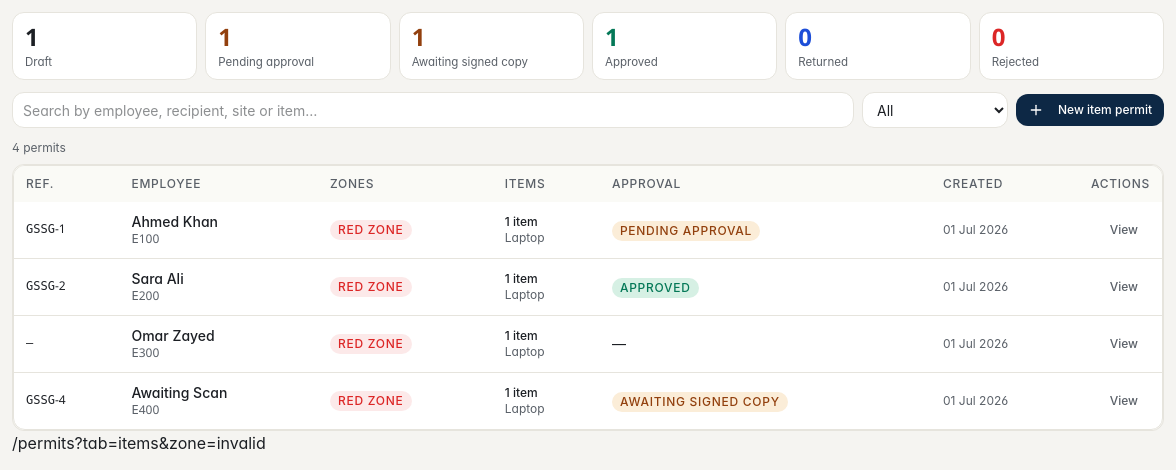
Test: ItemPermitsTab › refetches server-side when changing zone and ignores invalid URL zones
Check: the text "Ahmed Khan" is shown, box [132,213,218,230]
Select "Green zone" in the dropdown named "Zone" at point(935, 110), box [862,92,1008,128]
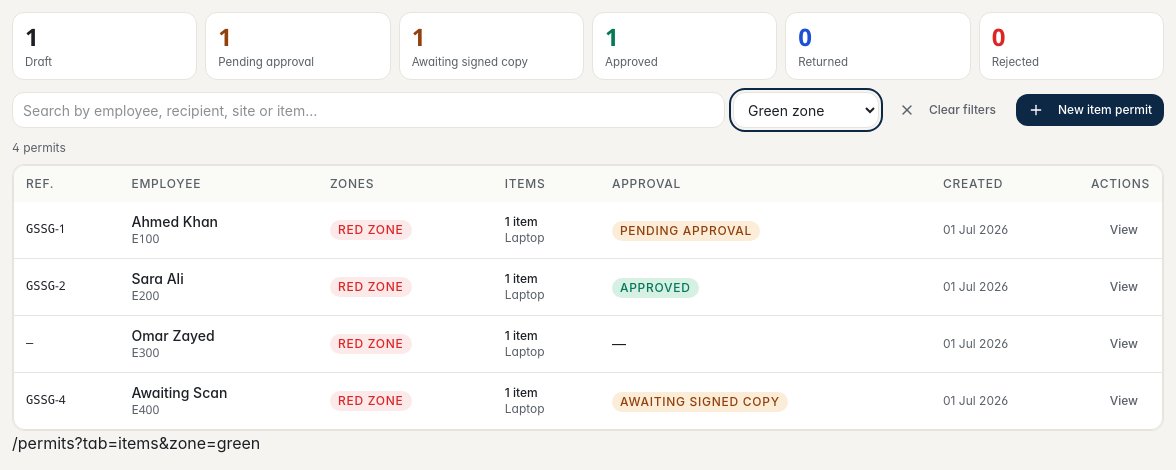
Check: the text with test id "location" shows "zone=green", box [12,433,260,453]
